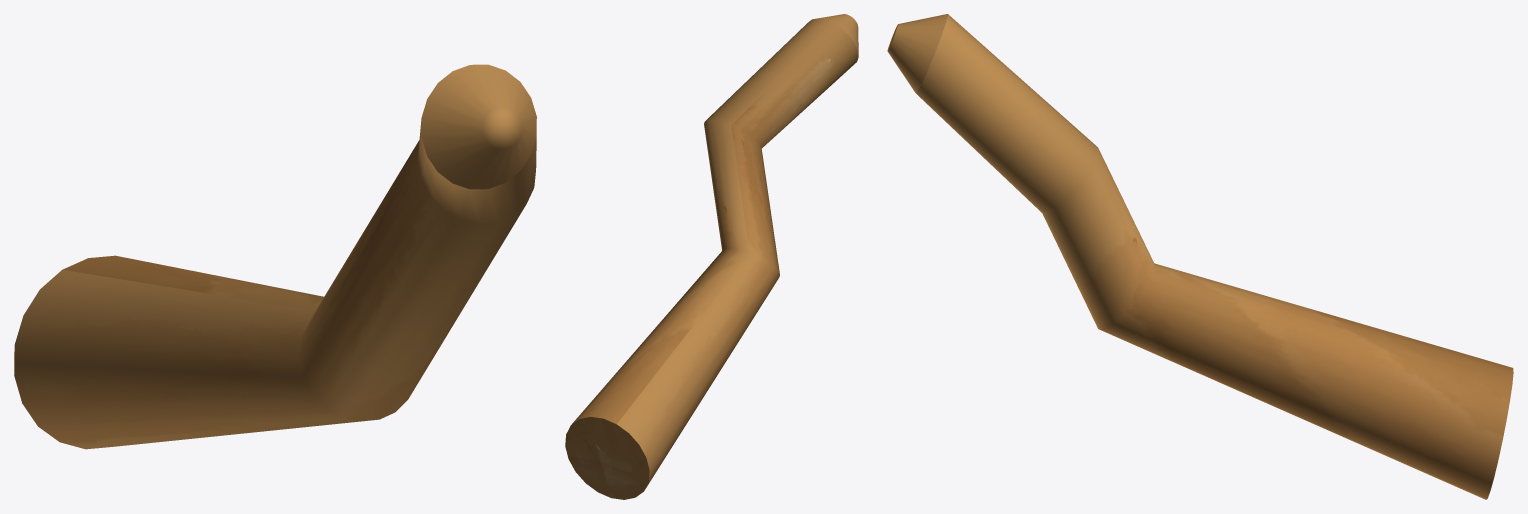
File: Branch3.fbx
The picture shows the model from 3 angles, left to right: view 1: azimuth 30°, elevation 25°; view 2: azimuth 150°, elevation 25°; view 3: azimuth 270°, elevation 25°; orthographic projection. The views are drawn at different scales.
Parts seen in each view (by area): view 1: pCylinder4; view 2: pCylinder4; view 3: pCylinder4.
Boxes of the visible parts, x1=… form: pCylinder4: x1=14, y1=64, x2=536, y2=449; pCylinder4: x1=565, y1=14, x2=858, y2=499; pCylinder4: x1=887, y1=14, x2=1513, y2=499.
Bounding box in the file's own units: 0.7931 × 2.48 × 3.03.
